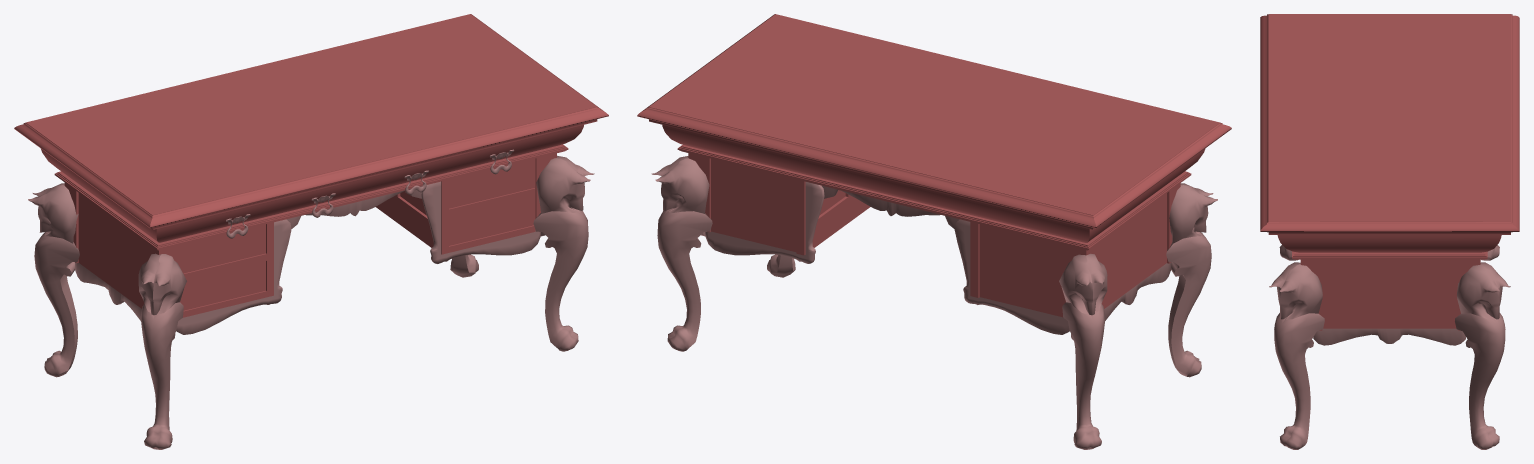
File: Rokoko_Alchemy_Table.fbx
3 renders of one model, left to right at view 1: azimuth 30°, elevation 25°; view 2: azimuth 150°, elevation 25°; view 3: azimuth 270°, elevation 25°, orthographic. The views are drawn at different scales.
Parts seen in each view (by area): view 1: Table_Top_low, Boxes_low, Wolf_Leg_LP, Roundpart_low, Big_orn, Midpart_low, Handles_LP, Middle_ornament_LP, side_orn_R; view 2: Table_Top_low, Boxes_low, Wolf_Leg_LP, Roundpart_low, Big_orn, Midpart_low, Middle_ornament_LP, side_orn_R; view 3: Table_Top_low, Wolf_Leg_LP, Boxes_low, Roundpart_low, side_orn_R, Midpart_low.
Part boxes in pixels (x1,y1,x2,y2): Table_Top_low: (14, 14, 608, 229); Boxes_low: (64, 153, 556, 317); Wolf_Leg_LP: (28, 155, 594, 449); Roundpart_low: (41, 125, 583, 242); Big_orn: (176, 181, 540, 334); Midpart_low: (54, 144, 568, 250); Handles_LP: (226, 149, 514, 238); Middle_ornament_LP: (286, 186, 421, 228); side_orn_R: (75, 232, 545, 320); Table_Top_low: (637, 14, 1231, 229); Boxes_low: (688, 153, 1180, 317); Wolf_Leg_LP: (651, 156, 1217, 449); Roundpart_low: (662, 125, 1205, 242); Big_orn: (705, 182, 1069, 334); Midpart_low: (677, 145, 1191, 250); Middle_ornament_LP: (822, 185, 959, 228); side_orn_R: (701, 232, 1171, 320); Table_Top_low: (1260, 14, 1519, 234); Wolf_Leg_LP: (1269, 245, 1510, 449); Boxes_low: (1300, 259, 1480, 330); Roundpart_low: (1277, 235, 1501, 252); side_orn_R: (1313, 328, 1465, 345); Midpart_low: (1292, 251, 1487, 259).
Size of the model in its own units: 24.07 by 12.43 by 12.34.
